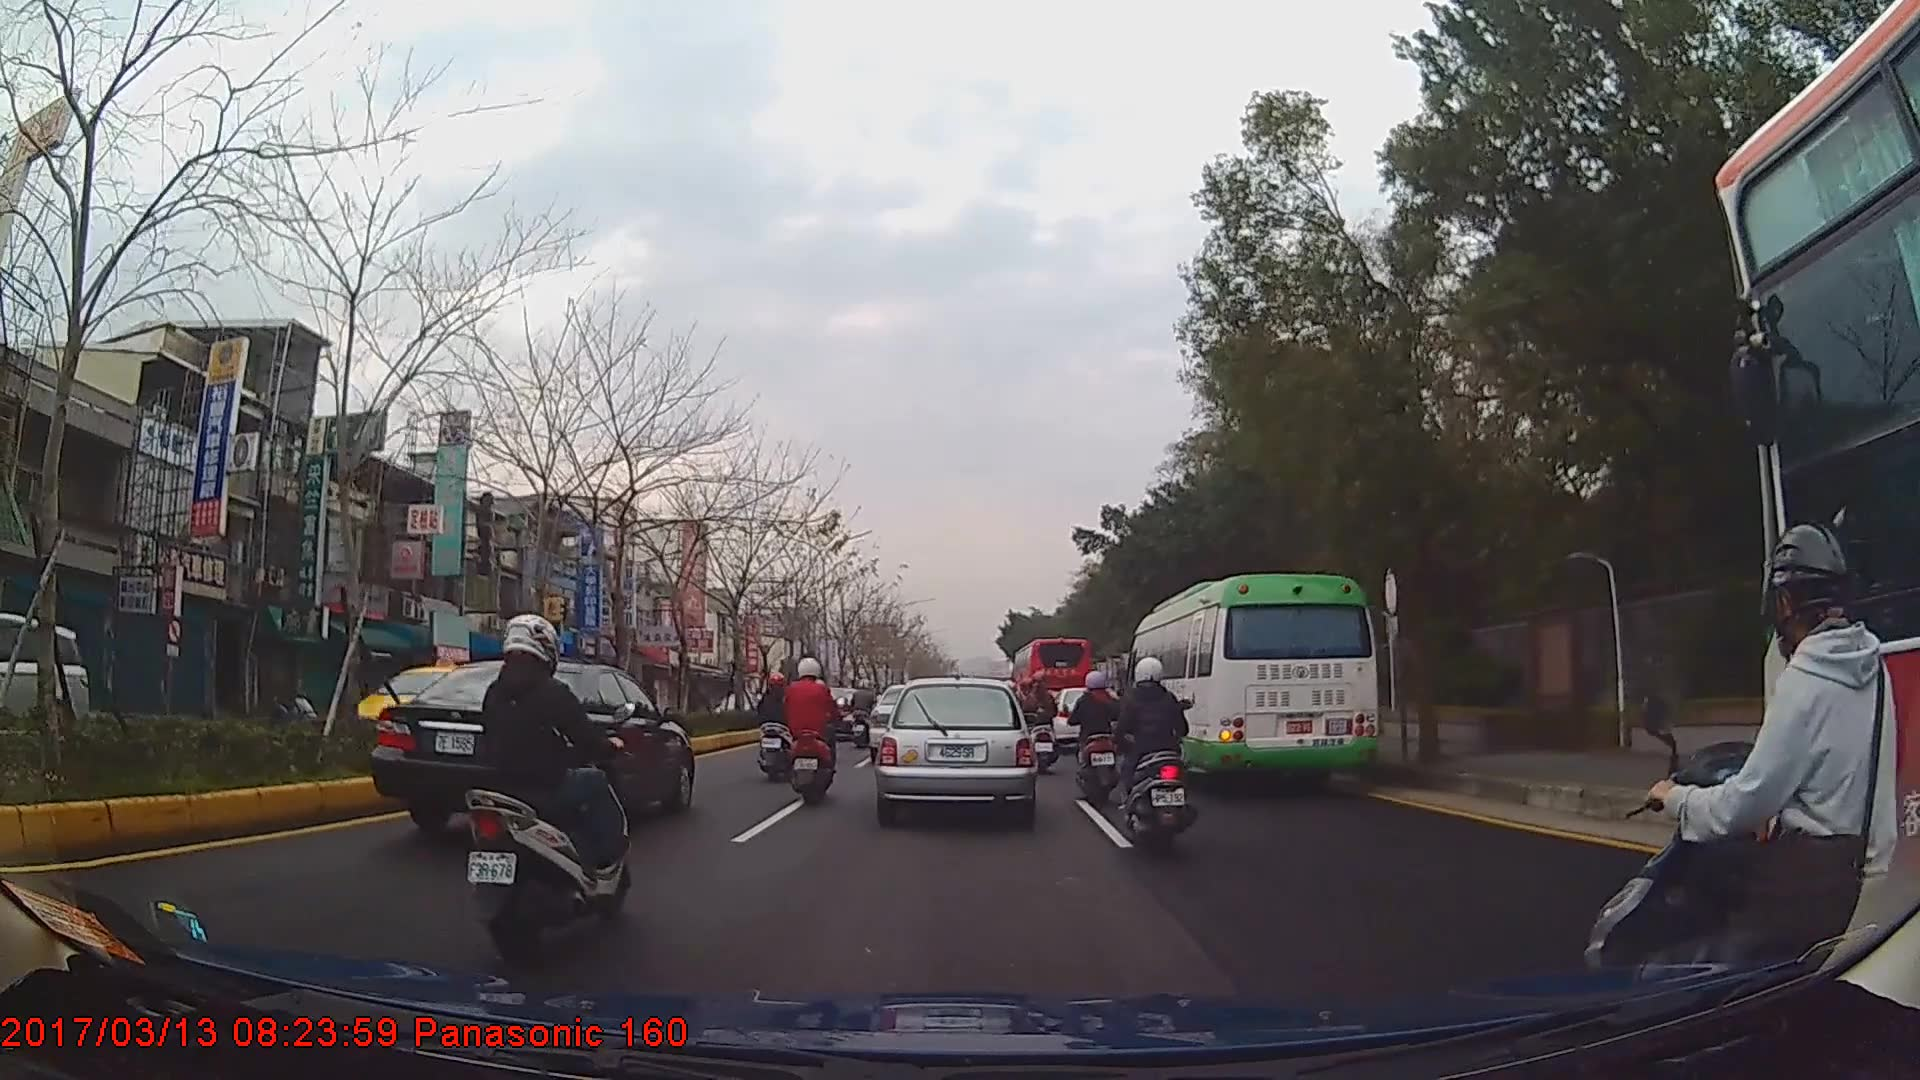rider: (1580, 513, 1920, 1021), (464, 607, 636, 955), (1118, 656, 1200, 860), (1066, 667, 1126, 807), (782, 655, 838, 804), (756, 670, 797, 782), (1018, 670, 1058, 775), (849, 679, 877, 748)
vehicle: (371, 658, 693, 837), (1123, 572, 1382, 795), (876, 678, 1033, 825), (2, 607, 92, 749), (1010, 633, 1094, 729)
